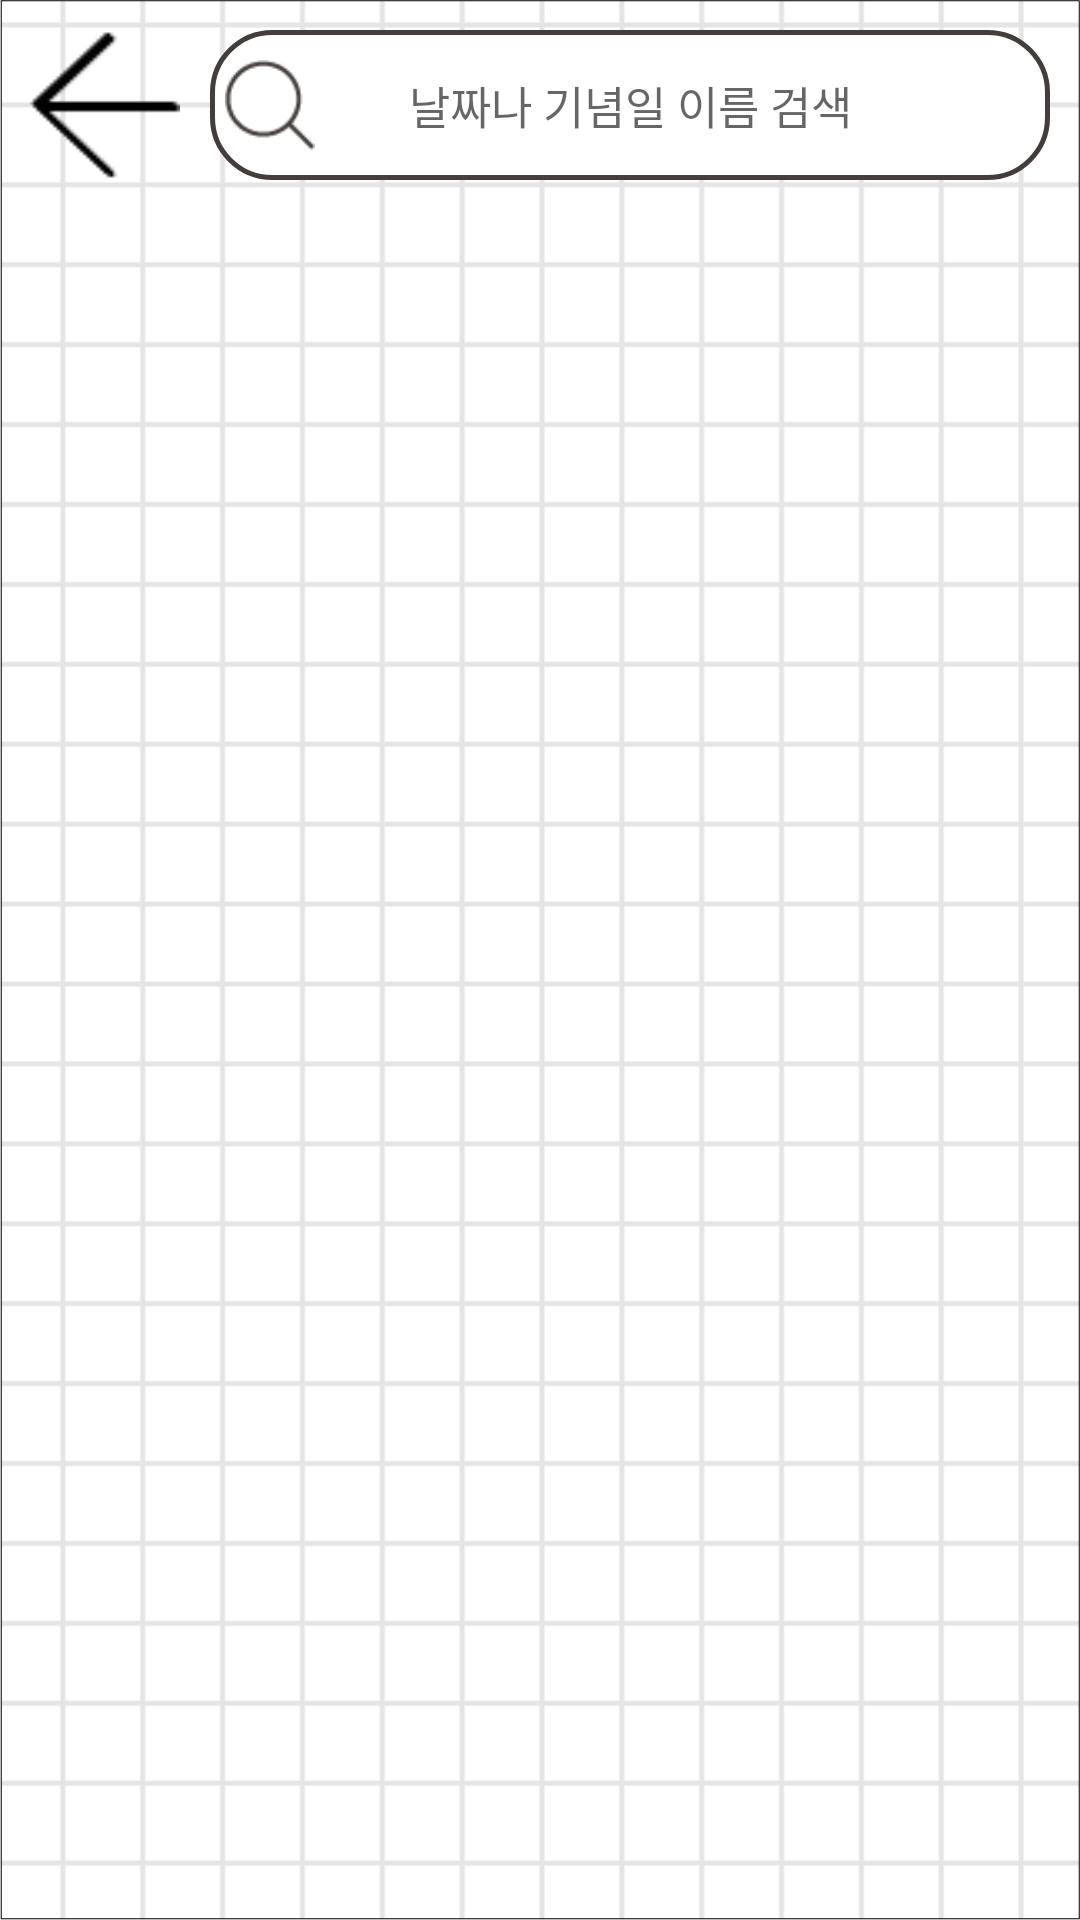

Icon click points for this 1080×1920 phone screenshot, format point (x, y):
search: point (270, 105)
